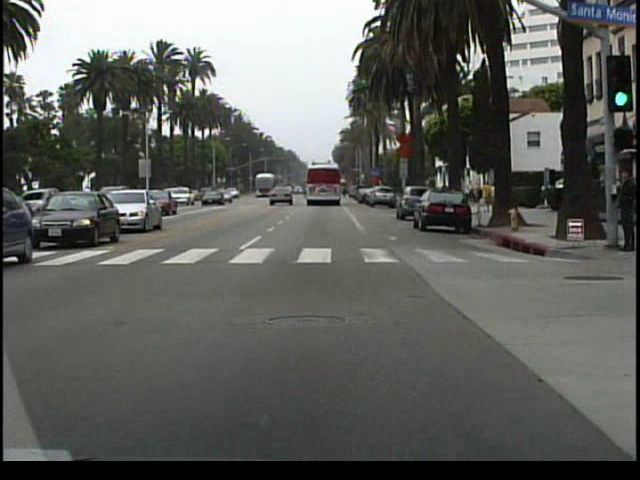person: (610, 157, 637, 250)
